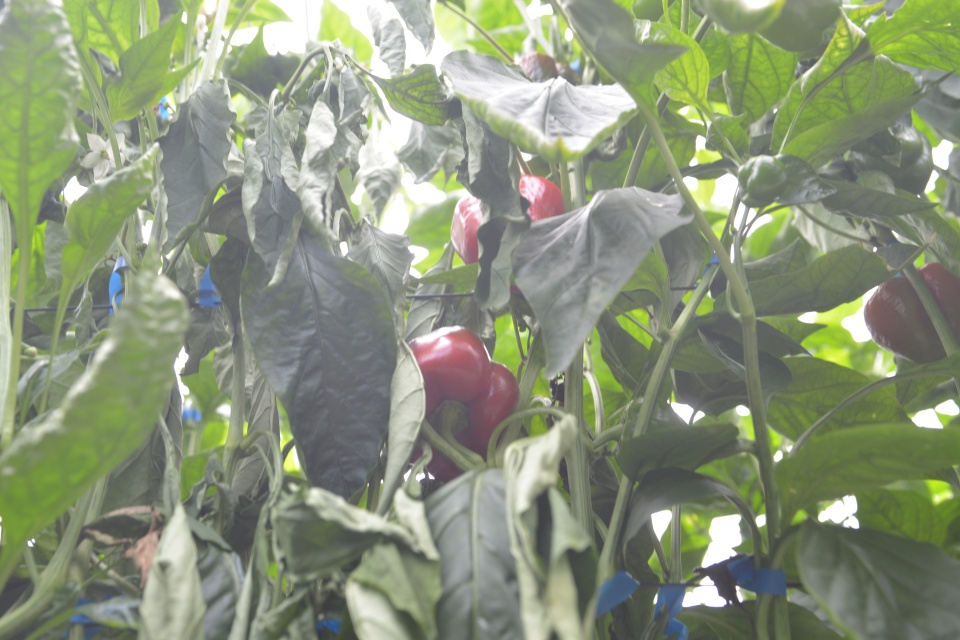flower: (77, 128, 129, 185)
fruit: (385, 321, 521, 483), (449, 172, 565, 294), (862, 260, 958, 365), (689, 0, 842, 56), (844, 120, 934, 196), (735, 153, 789, 209), (518, 52, 579, 85)
pedicle: (426, 398, 469, 440)
